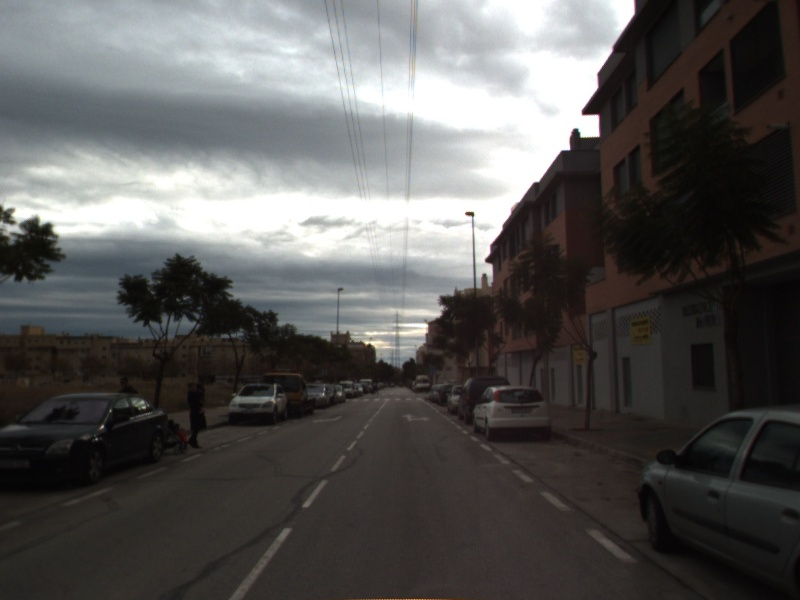STRAIGHT_RIGHT: (399, 412, 432, 424)
